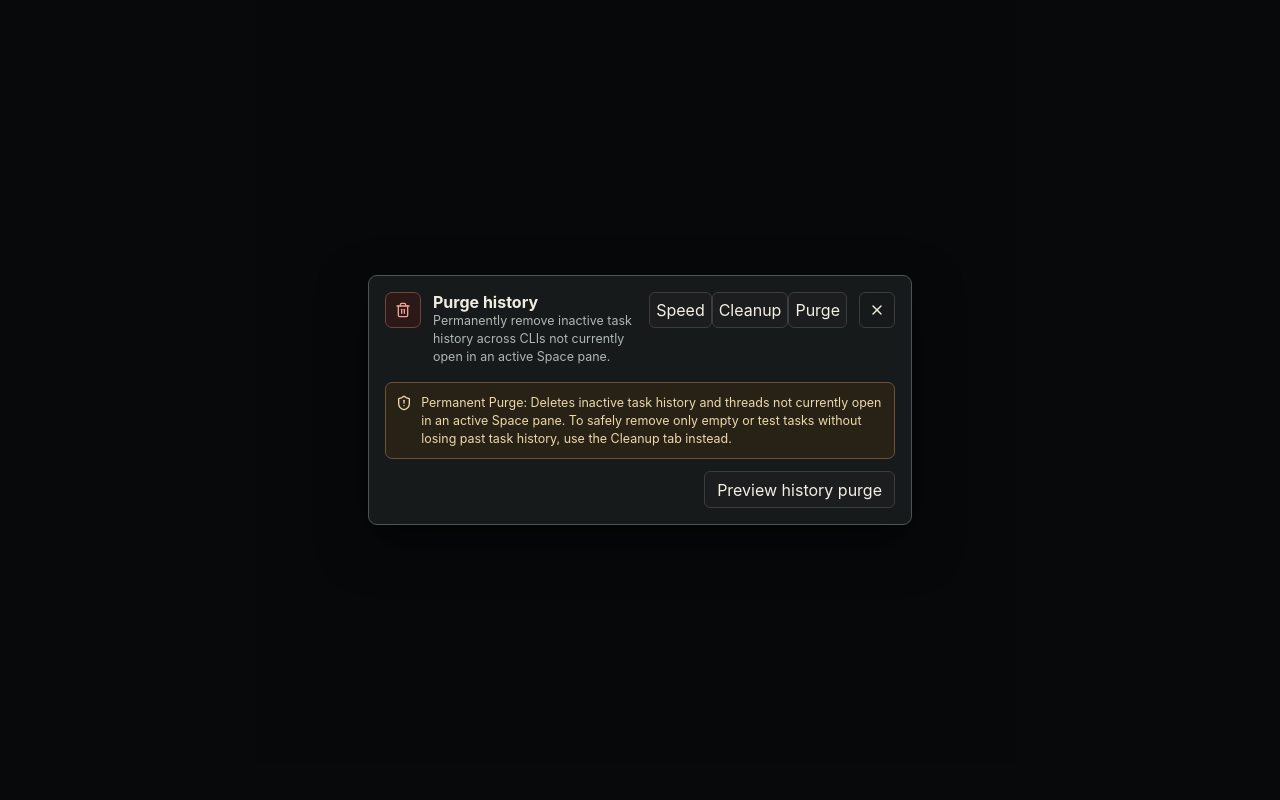
Test: AdminCodexToolsDialog › requires a fresh preview and exact typed confirmation before purging
Click the button "Preview history purge": click(800, 490) [704,472,895,508]
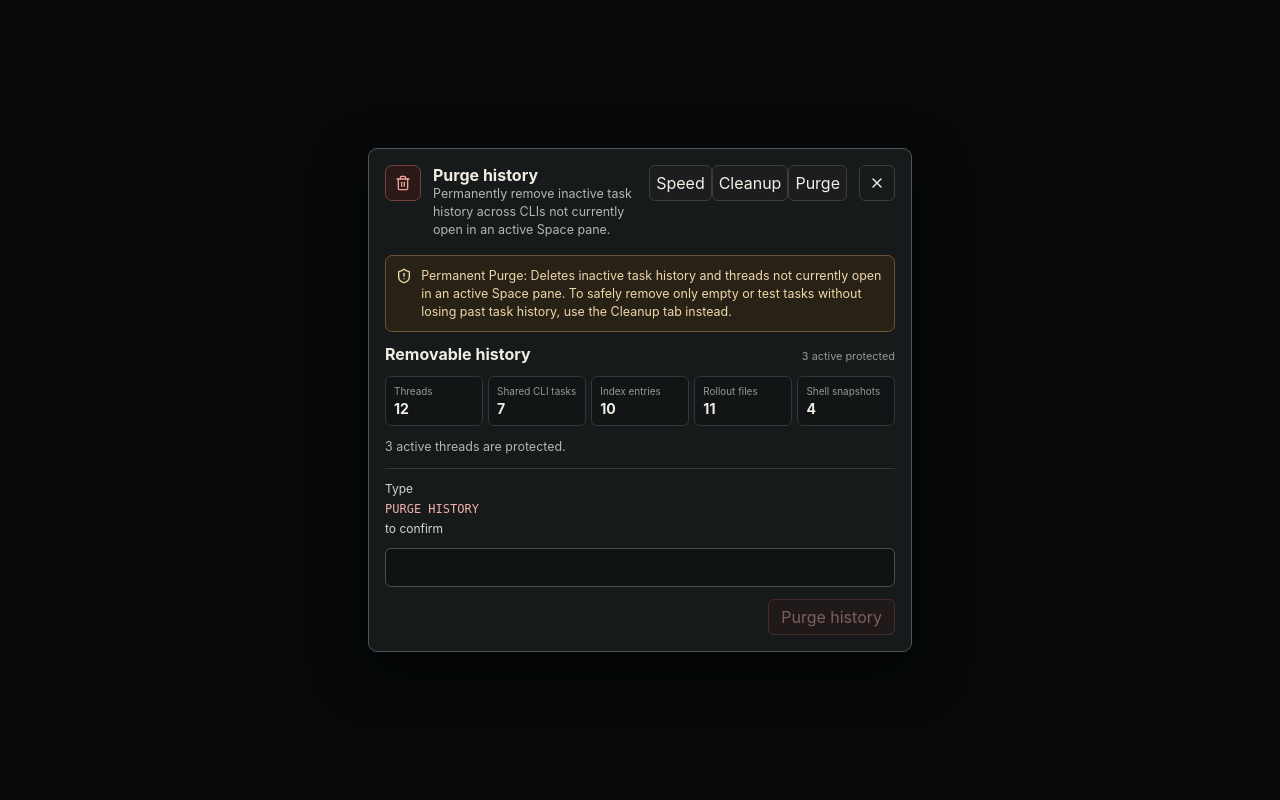
Expected: the text "12" is shown, [394,400,409,417]
Expected: the text "7" is shown, [497,400,505,417]
Expected: the text "3 active threads are protected." is shown, [385,439,566,454]
In the field labelled "Type PURGE HISTORY to confirm": (640, 567) [385,548,895,586], type "PURGE"
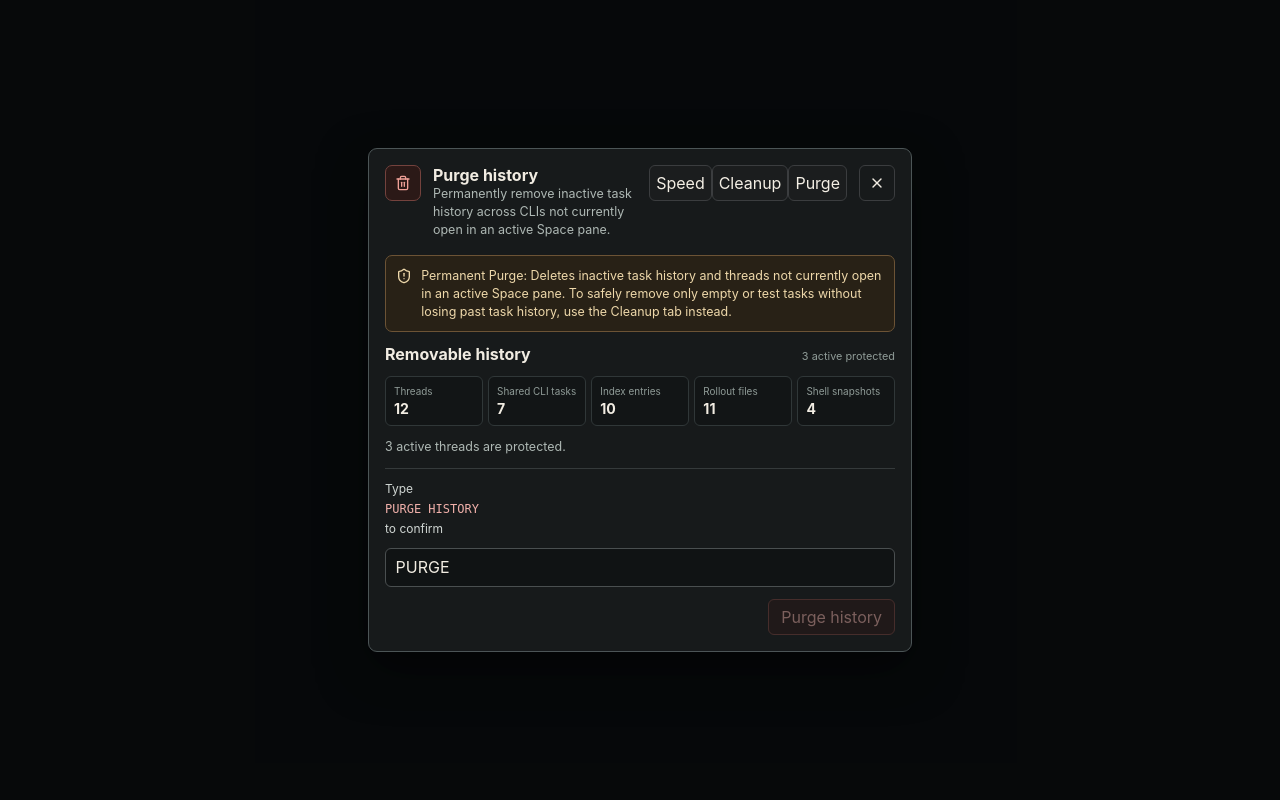
Expected: the button "Purge history" is disabled, [768,598,895,635]
Replace the text in the field labelled "Type PURGE HISTORY to confirm" with "PURGE HISTORY": (640, 567) [385,548,895,586]
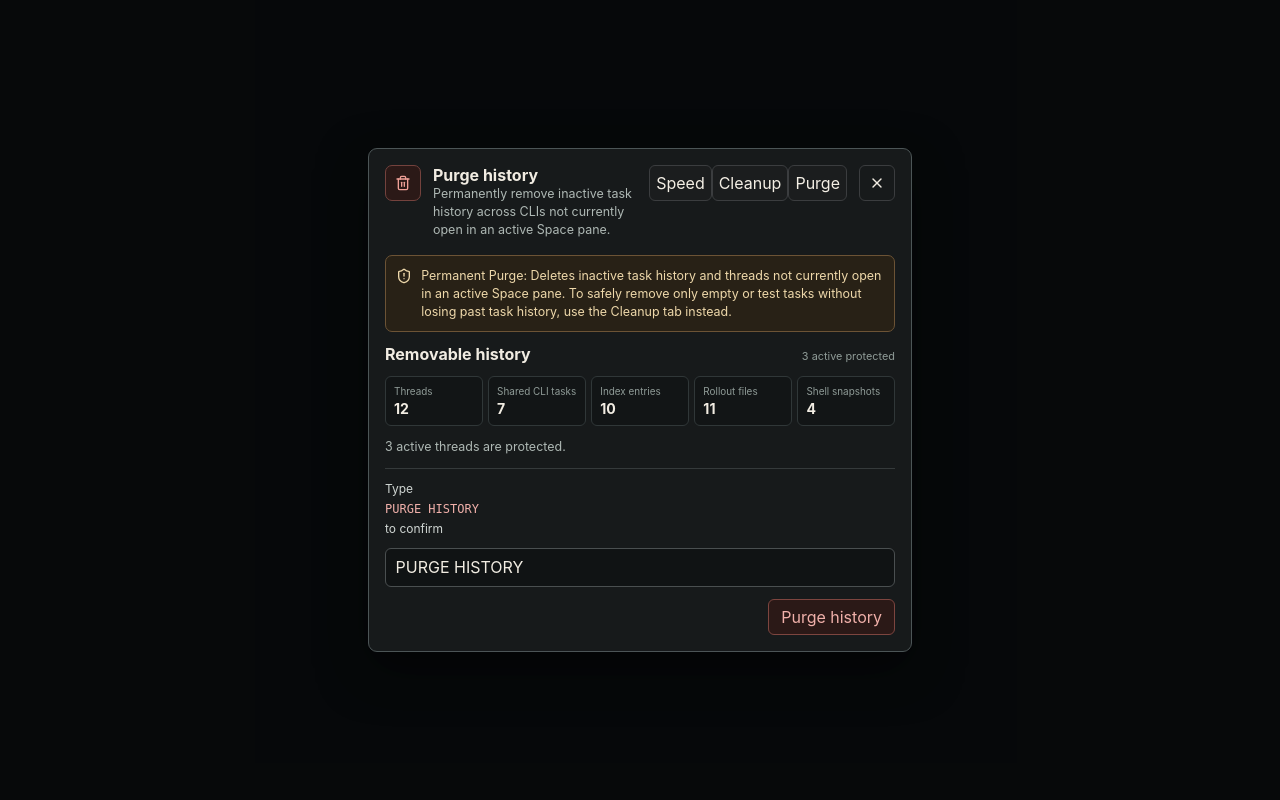
Expected: the button "Purge history" is enabled
Click the button "Purge history": click(832, 617) [768,598,895,635]
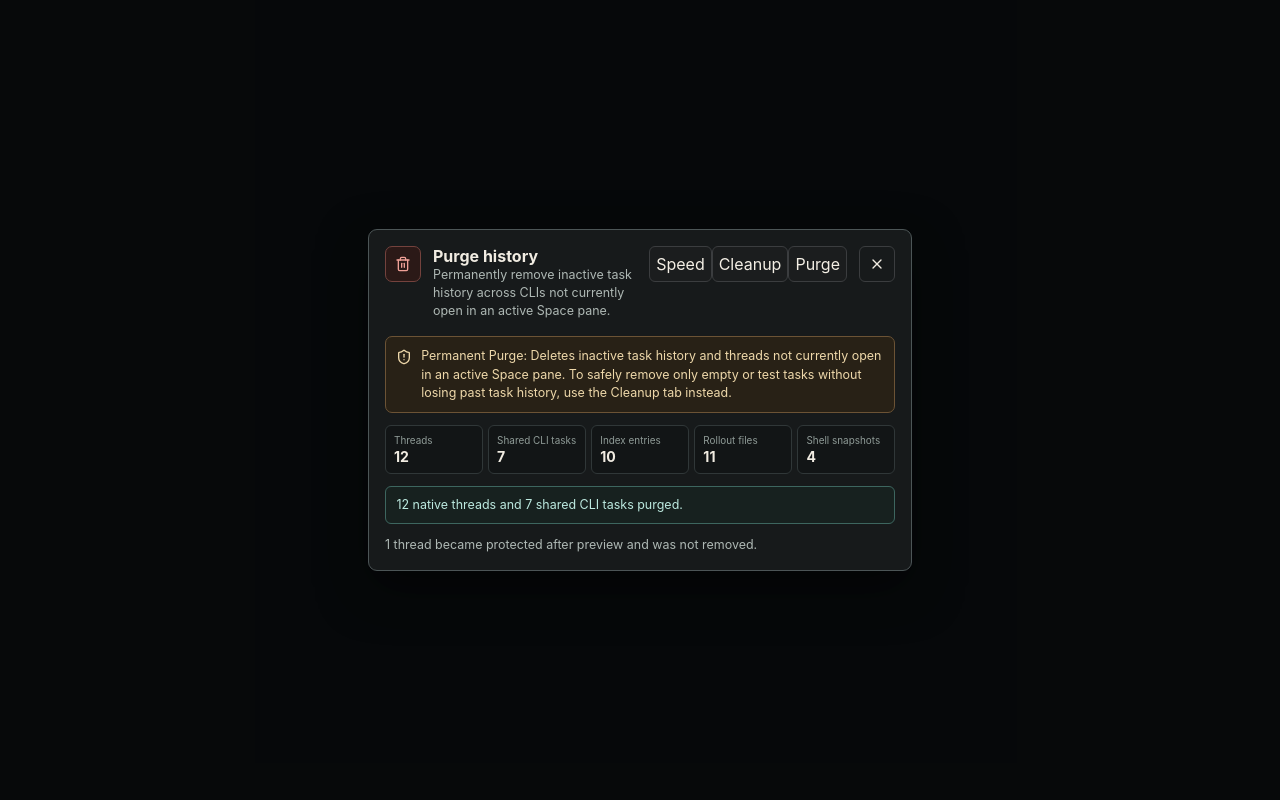
Expected: the message shows "12 native threads and 7 shared CLI tasks purged", [396,497,683,512]
Expected: the text "1 thread became protected after preview and was not removed." is shown, [385,537,757,552]
